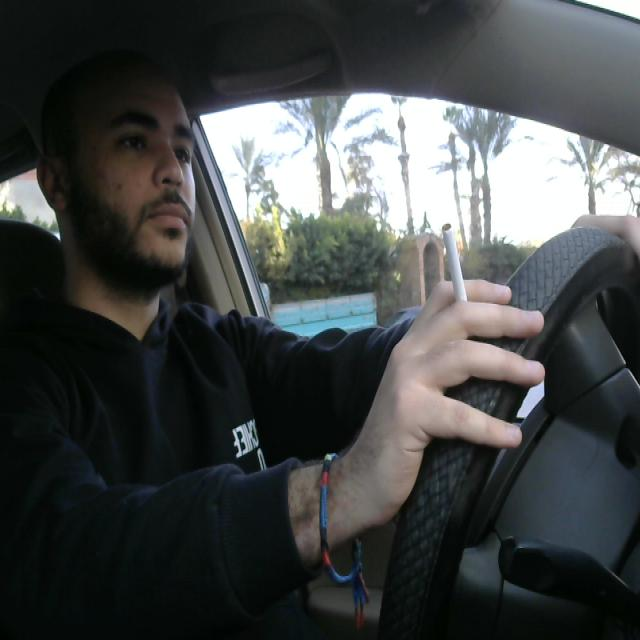smoking: (436, 218, 480, 348)
